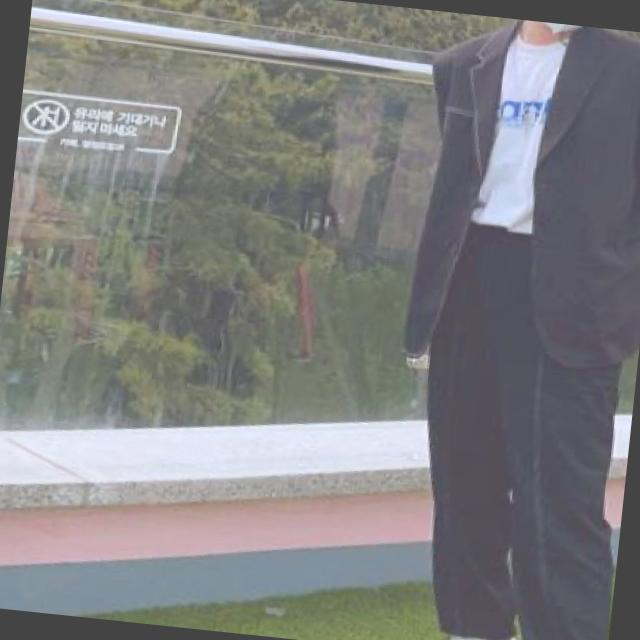blazer: (397, 212, 640, 640), (396, 10, 640, 379)
